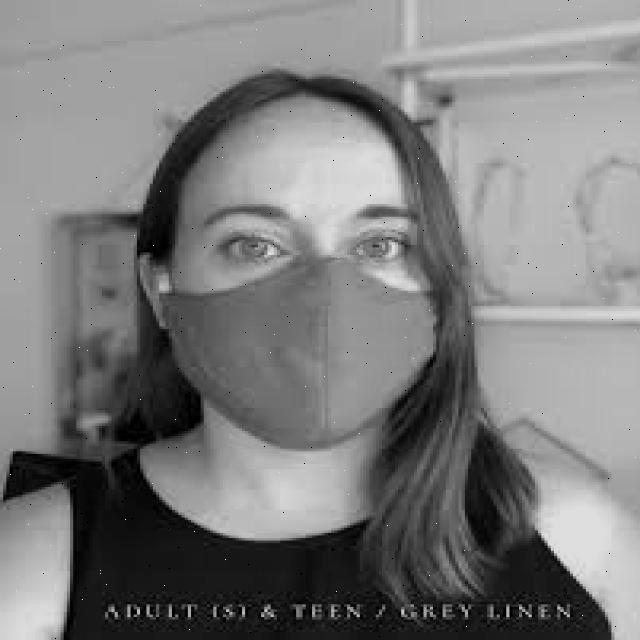fake: (156, 262, 450, 455)
real: (167, 98, 430, 461)
